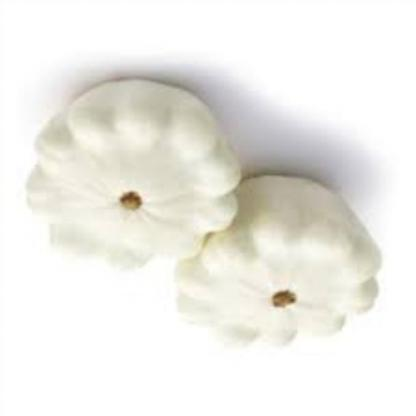squash-patisson: (167, 163, 383, 358), (28, 81, 244, 275)
